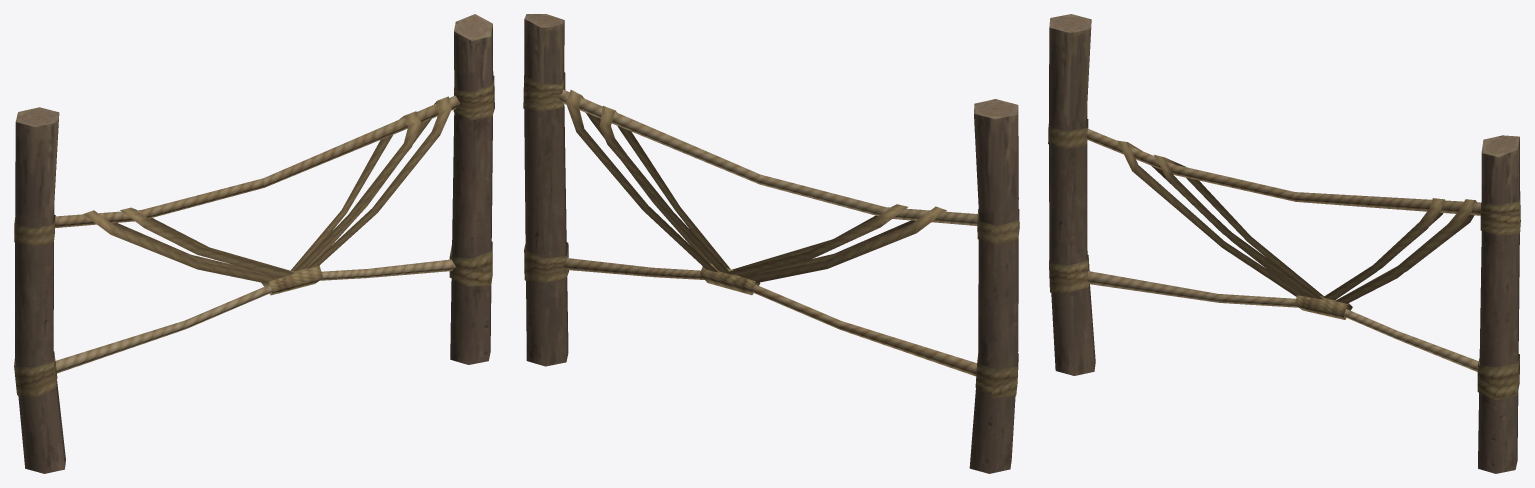
Rendered from Homeworld_Exterior_Xm_Build_Wall_01_Lod0.fbx.
3 views of the same model, side by side, from view 1: azimuth 30°, elevation 25°; view 2: azimuth 150°, elevation 25°; view 3: azimuth 330°, elevation 25° (orthographic). The views are drawn at different scales.
Parts seen in each view (by area): view 1: Homeworld_Exterior_Xm_Build_Wall_01_Lod0; view 2: Homeworld_Exterior_Xm_Build_Wall_01_Lod0; view 3: Homeworld_Exterior_Xm_Build_Wall_01_Lod0.
Part boxes in pixels (x1,y1,x2,y2): Homeworld_Exterior_Xm_Build_Wall_01_Lod0: (14, 14, 494, 473); Homeworld_Exterior_Xm_Build_Wall_01_Lod0: (523, 14, 1019, 473); Homeworld_Exterior_Xm_Build_Wall_01_Lod0: (1048, 14, 1520, 473).
Bounding box in the file's own units: 1.67 × 1.16 × 0.1461.
